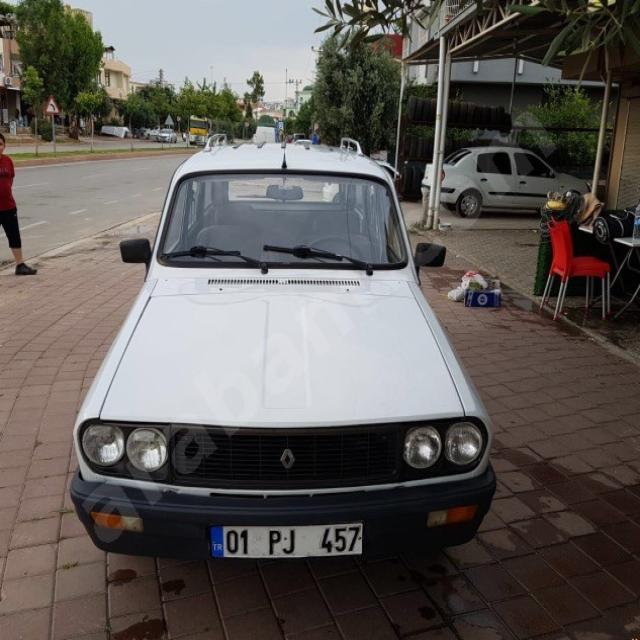license_plate: (209, 522, 363, 559)
